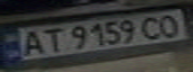1: (87, 20, 109, 47)
5: (103, 19, 124, 45)
9: (66, 22, 90, 50), (118, 16, 142, 44)
A: (15, 28, 48, 57)
C: (136, 15, 166, 40)
O: (154, 11, 187, 37)
T: (36, 26, 66, 54)
